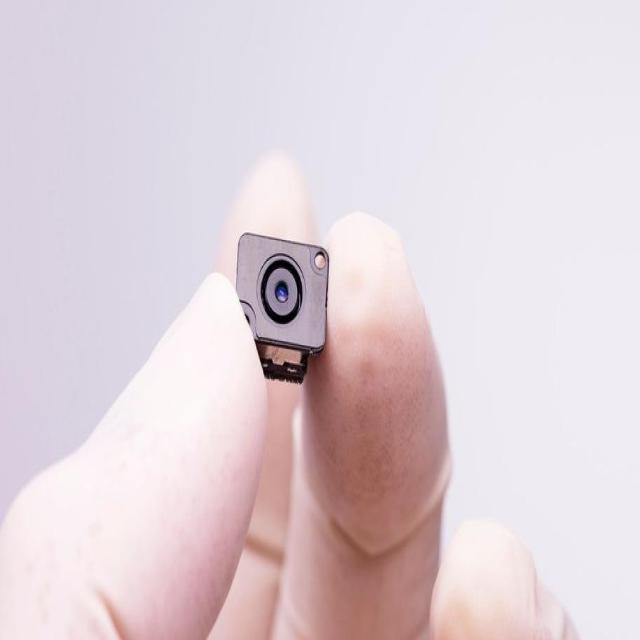hidden camera: (273, 280, 292, 310)
